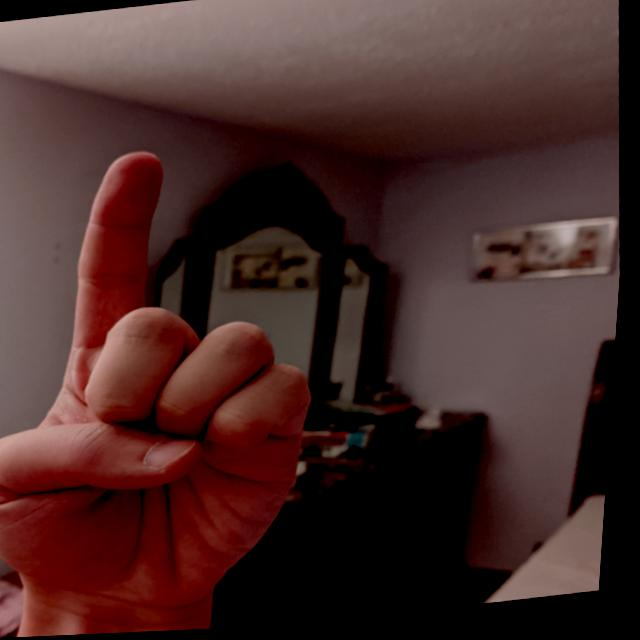D: (0, 127, 355, 630)
